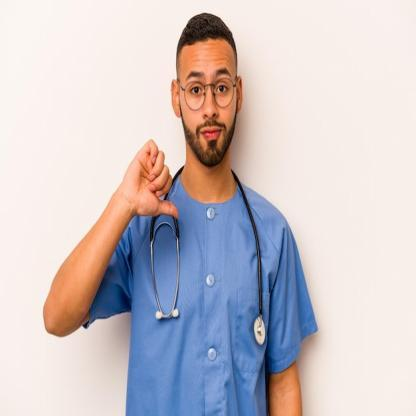thumb_down: (122, 134, 180, 229)
